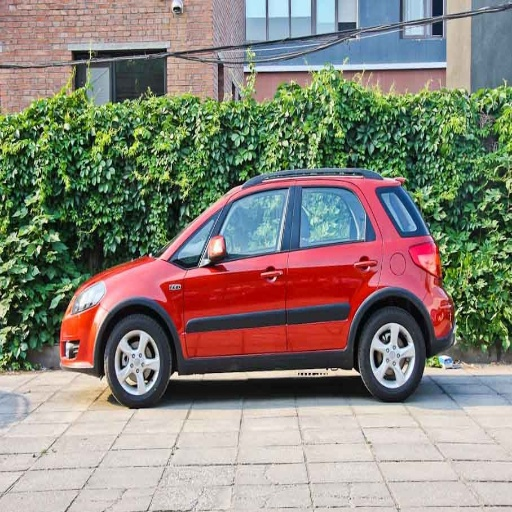back_glass: (380, 188, 425, 234)
back_left_door: (287, 181, 382, 348)
front_left_door: (176, 182, 295, 357)
